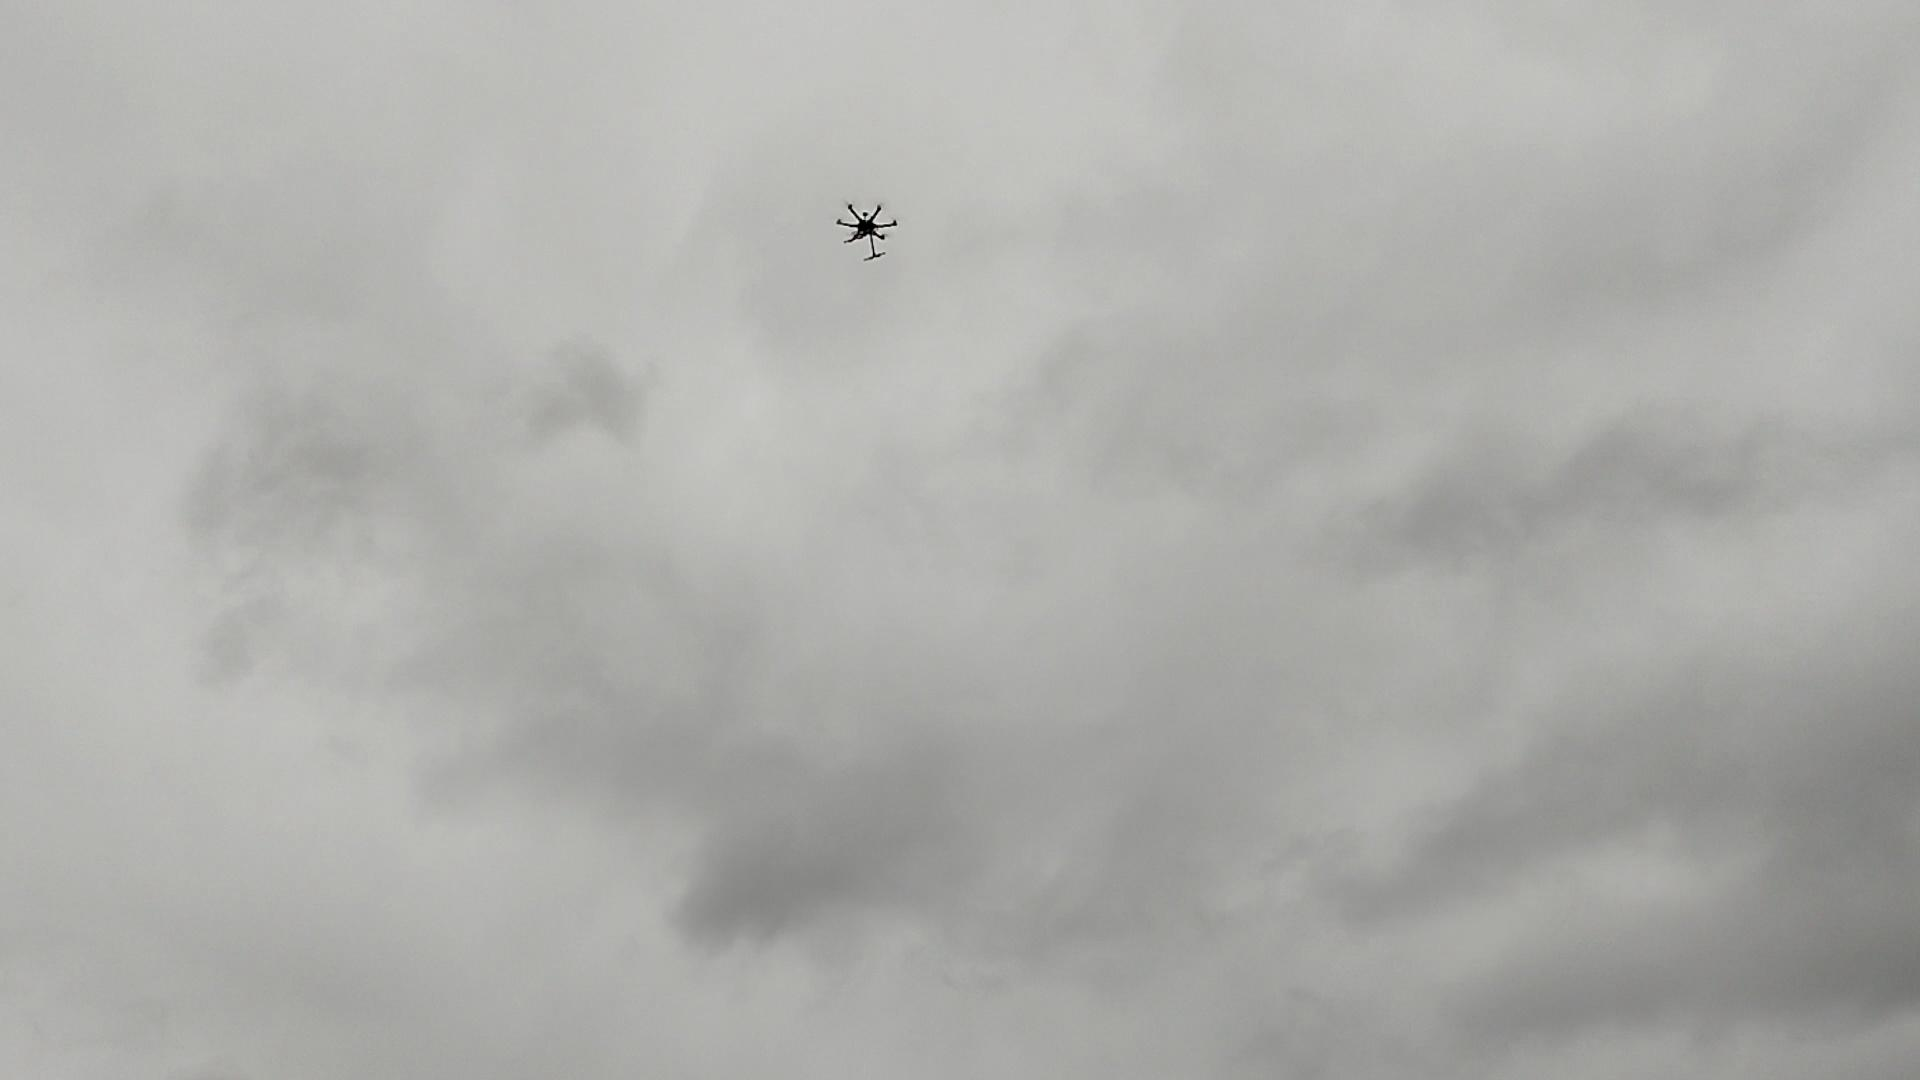drone: (833, 196, 905, 262)
